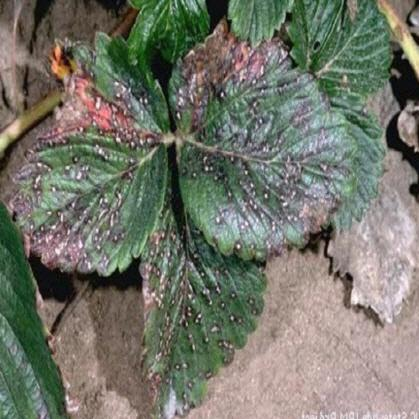Leaf Spot: (167, 16, 360, 262), (6, 31, 171, 275), (138, 199, 268, 418)
